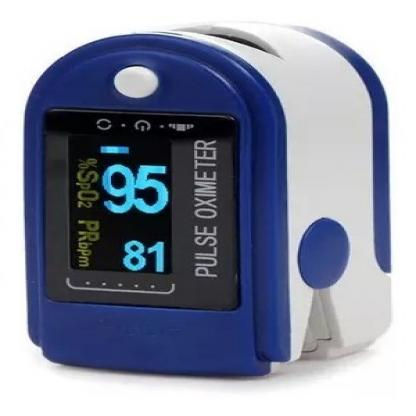Displays: (69, 136, 172, 274)
